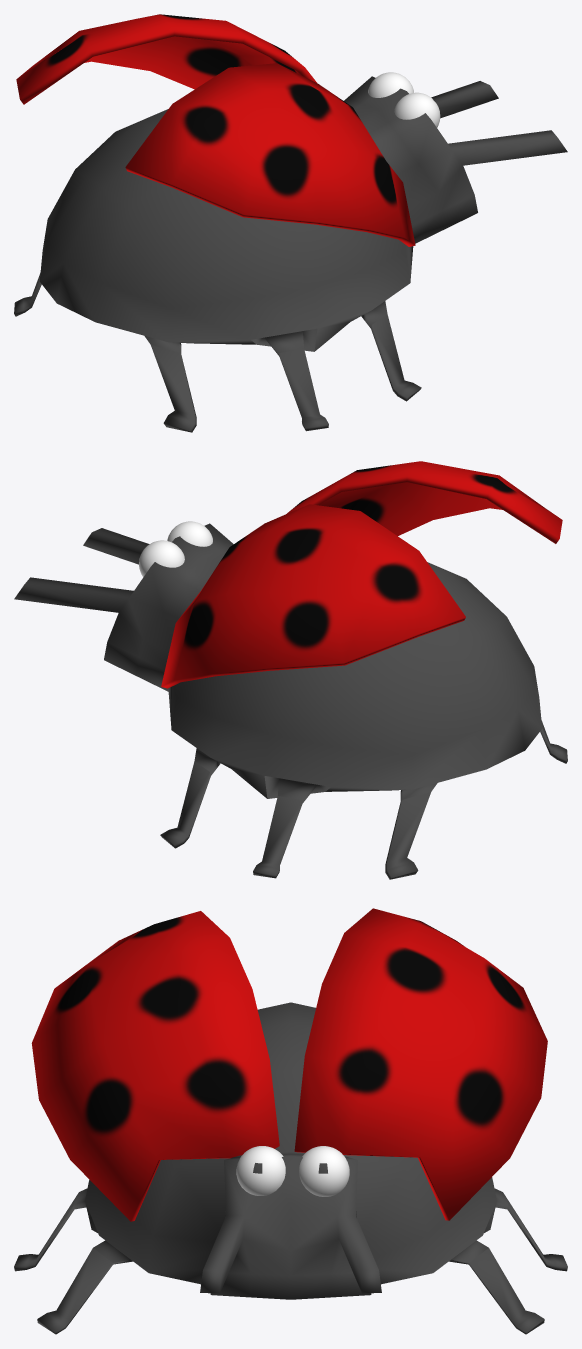
3 renders of one model, top to bottom at view 1: azimuth 30°, elevation 25°; view 2: azimuth 150°, elevation 25°; view 3: azimuth 270°, elevation 25°, orthographic. The views are drawn at different scales.
Parts seen in each view (by area): view 1: rwing; view 2: rwing; view 3: rwing.
Part boxes in pixels (box(x1,y1,x2,y2)): rwing: box(14, 14, 567, 432); rwing: box(14, 461, 567, 879); rwing: box(14, 908, 567, 1334).
Size of the model in its own units: 313 by 189 by 280.
